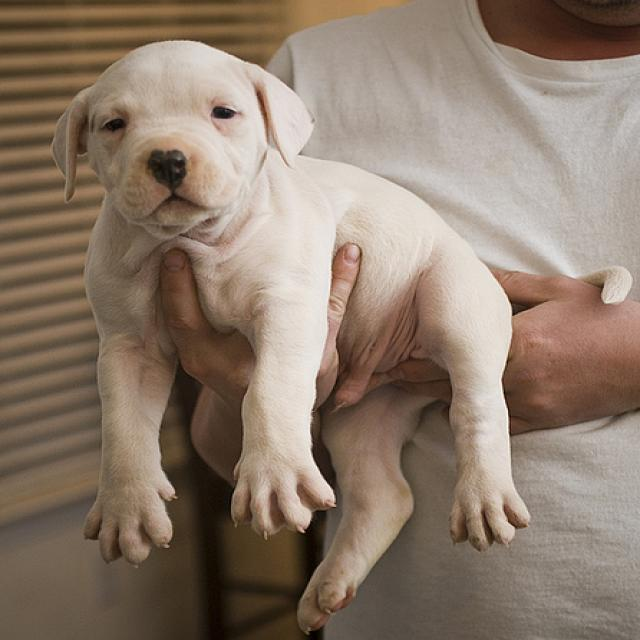dog-american_bulldog: (46, 35, 535, 637)
